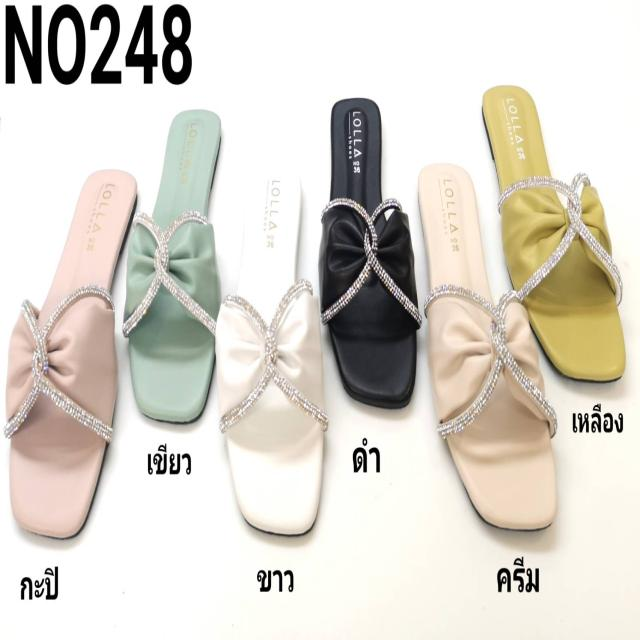black: (326, 95, 419, 409)
cream: (417, 160, 555, 528)
green: (124, 110, 219, 420)
kapi: (8, 163, 132, 543)
white: (220, 182, 326, 533)
yellow: (484, 86, 630, 387)
